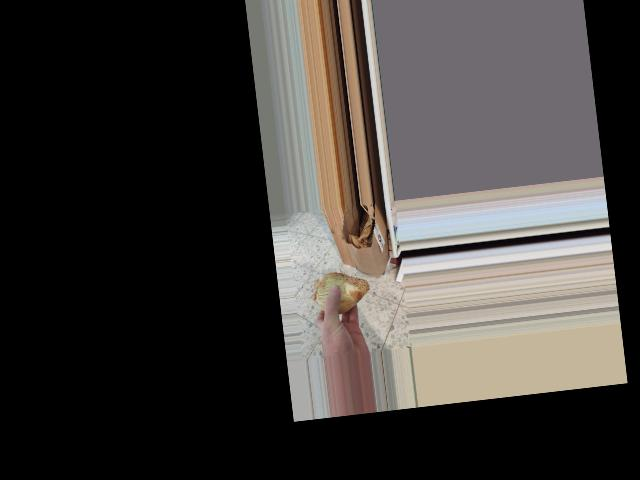onion: (309, 267, 373, 320)
